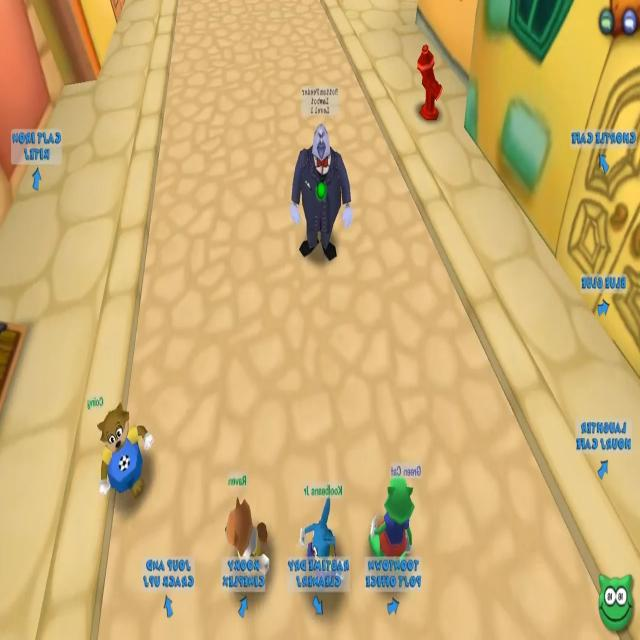bottomfeeder: (286, 86, 357, 270)
